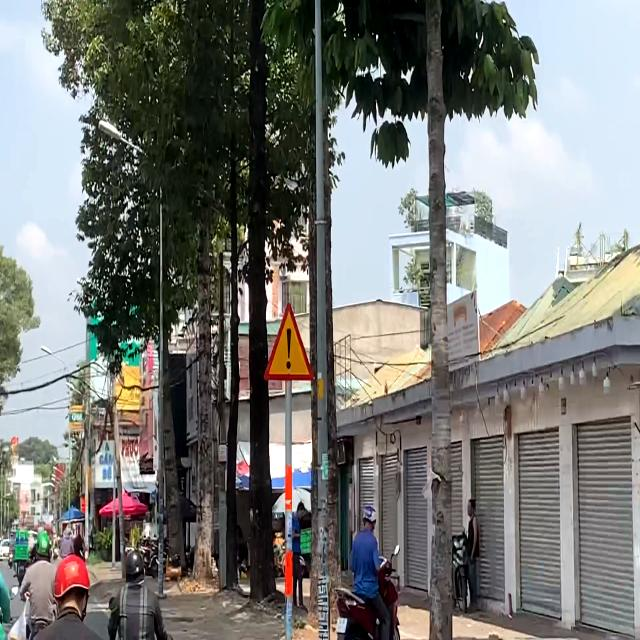W.233: (262, 301, 315, 382)
